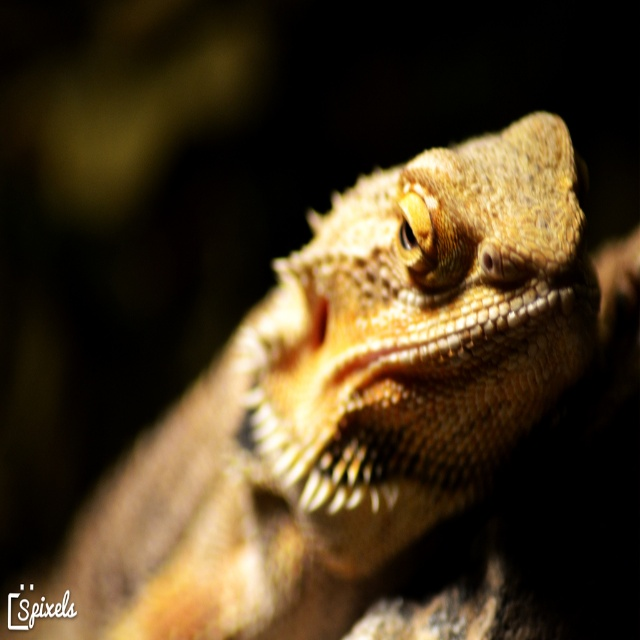Lizard: (93, 91, 614, 625)
